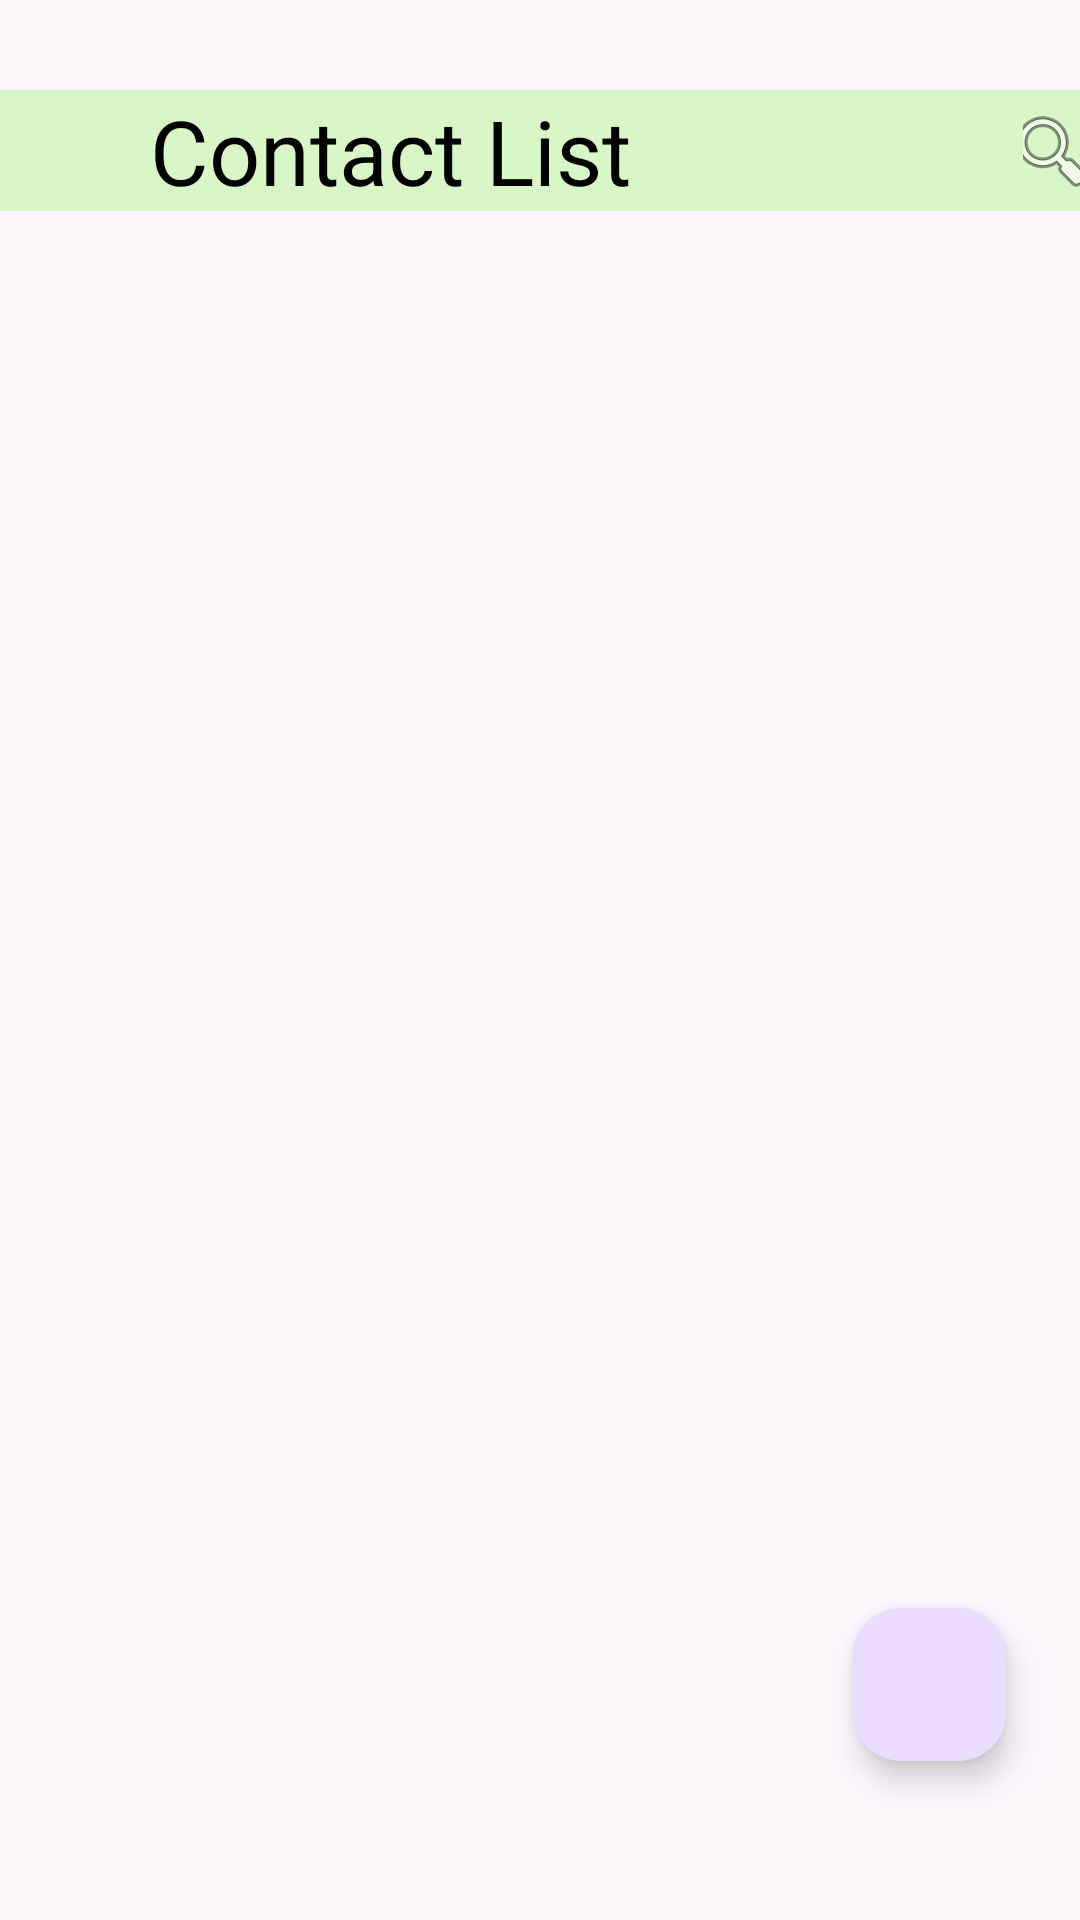

Point at icon controls on the screen. Image size 1080 × 1920, points as (x,y).
search: (1051,150)
